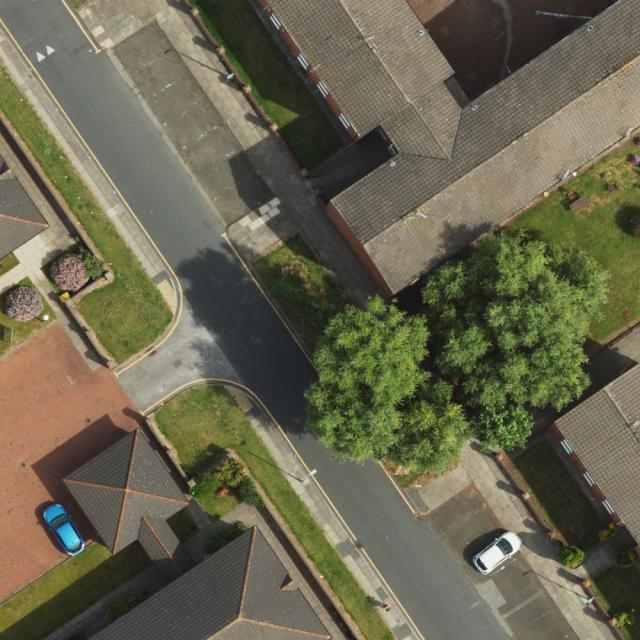roof: (265, 0, 640, 293), (63, 428, 334, 640), (556, 362, 640, 545), (0, 155, 49, 259)
